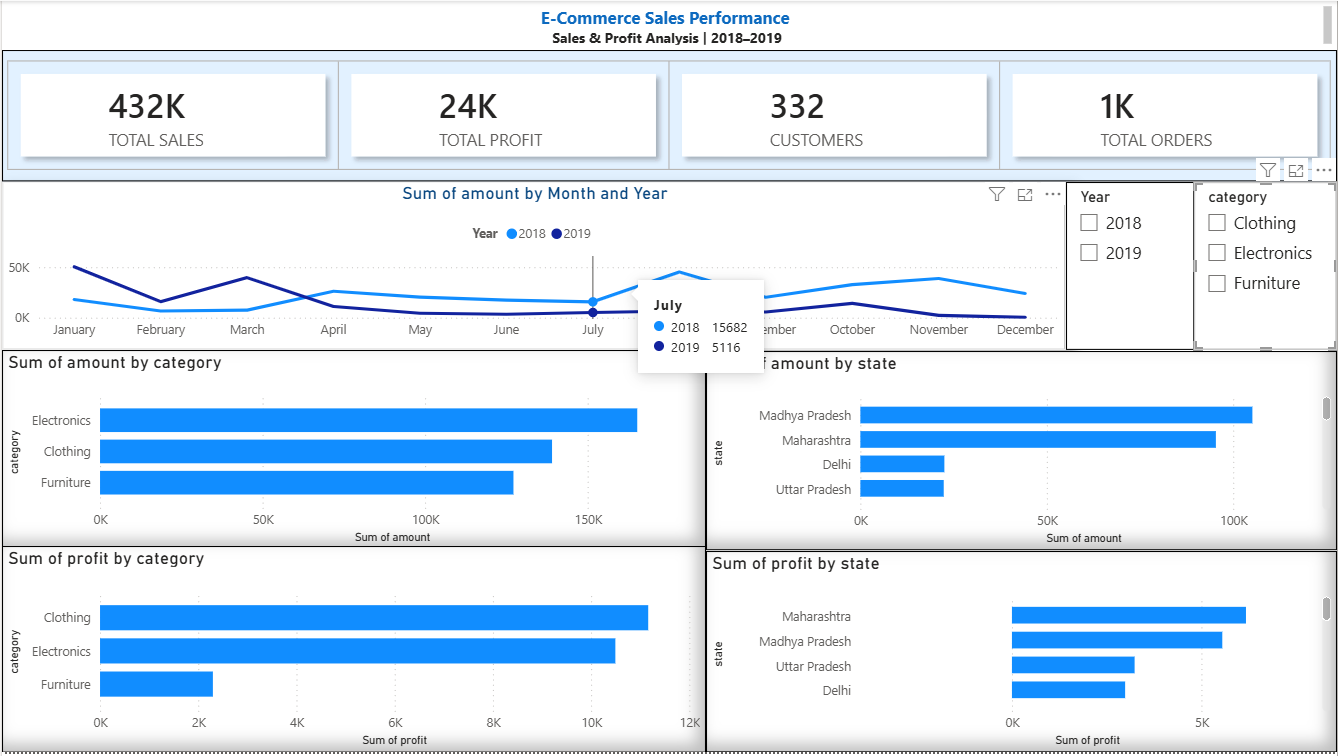

Layout of this report page (visuals, bound fields, positions):
{"tool":"powerbi","page":{"name":"Page 1","canvas":[1280,720],"ordinal":0},"visuals":[{"type":"lineChart","fields":{"Y":["Sum(public order_details.amount)"],"Series":["public list_of_orders.order_date.Variation.Date Hierarchy.Year"],"Category":["public list_of_orders.order_date.Variation.Date Hierarchy.Month"]},"box":[0,172.6,1020.2,162],"z":0},{"type":"barChart","fields":{"Category":["public order_details.category"],"Y":["Sum(public order_details.amount)"]},"box":[0,334.6,675,190.8],"z":1000},{"type":"barChart","fields":{"Category":["public order_details.category"],"Y":["Sum(public order_details.profit)"]},"box":[0,522.5,675,197.5],"z":2000},{"type":"barChart","fields":{"Category":["public list_of_orders.state"],"Y":["Sum(public order_details.amount)"]},"box":[675,335.6,605,190.8],"z":3000},{"type":"cardVisual","fields":{"Data":["public order_details.total_amount","public order_details.total_profit","public list_of_orders.customers","public list_of_orders.total_sales"]},"box":[0,47,1280,125.6],"z":4000},{"type":"barChart","fields":{"Category":["public list_of_orders.state"],"Y":["Sum(public order_details.profit)"]},"box":[675,527.3,605,192.7],"z":4001},{"type":"slicer","fields":{"Values":["public list_of_orders.order_date.Variation.Date Hierarchy.Year"]},"box":[1020.2,173.5,122.7,161.1],"z":4002},{"type":"slicer","fields":{"Values":["public order_details.category"]},"box":[1142.9,173.5,137.1,161.1],"z":4003},{"type":"textbox","box":[0,0,1280,47],"z":4004}]}

Visuals, with their boxes in screenshot pixels (x1, y1, x2, y2), scaled from the page's 1280x720 canvas onto the 1338x756 screenshot:
lineChart - Sum(public order_details.amount) x public list_of_orders.order_date.Variation.Date Hierarchy.Year: box(0, 181, 1066, 351)
barChart - public order_details.category x Sum(public order_details.amount): box(0, 351, 706, 552)
barChart - public order_details.category x Sum(public order_details.profit): box(0, 549, 706, 755)
barChart - public list_of_orders.state x Sum(public order_details.amount): box(706, 352, 1337, 553)
cardVisual - public order_details.total_amount x public order_details.total_profit: box(0, 49, 1337, 181)
barChart - public list_of_orders.state x Sum(public order_details.profit): box(706, 554, 1337, 755)
slicer - public list_of_orders.order_date.Variation.Date Hierarchy.Year: box(1066, 182, 1195, 351)
slicer - public order_details.category: box(1195, 182, 1337, 351)
textbox: box(0, 0, 1337, 49)
